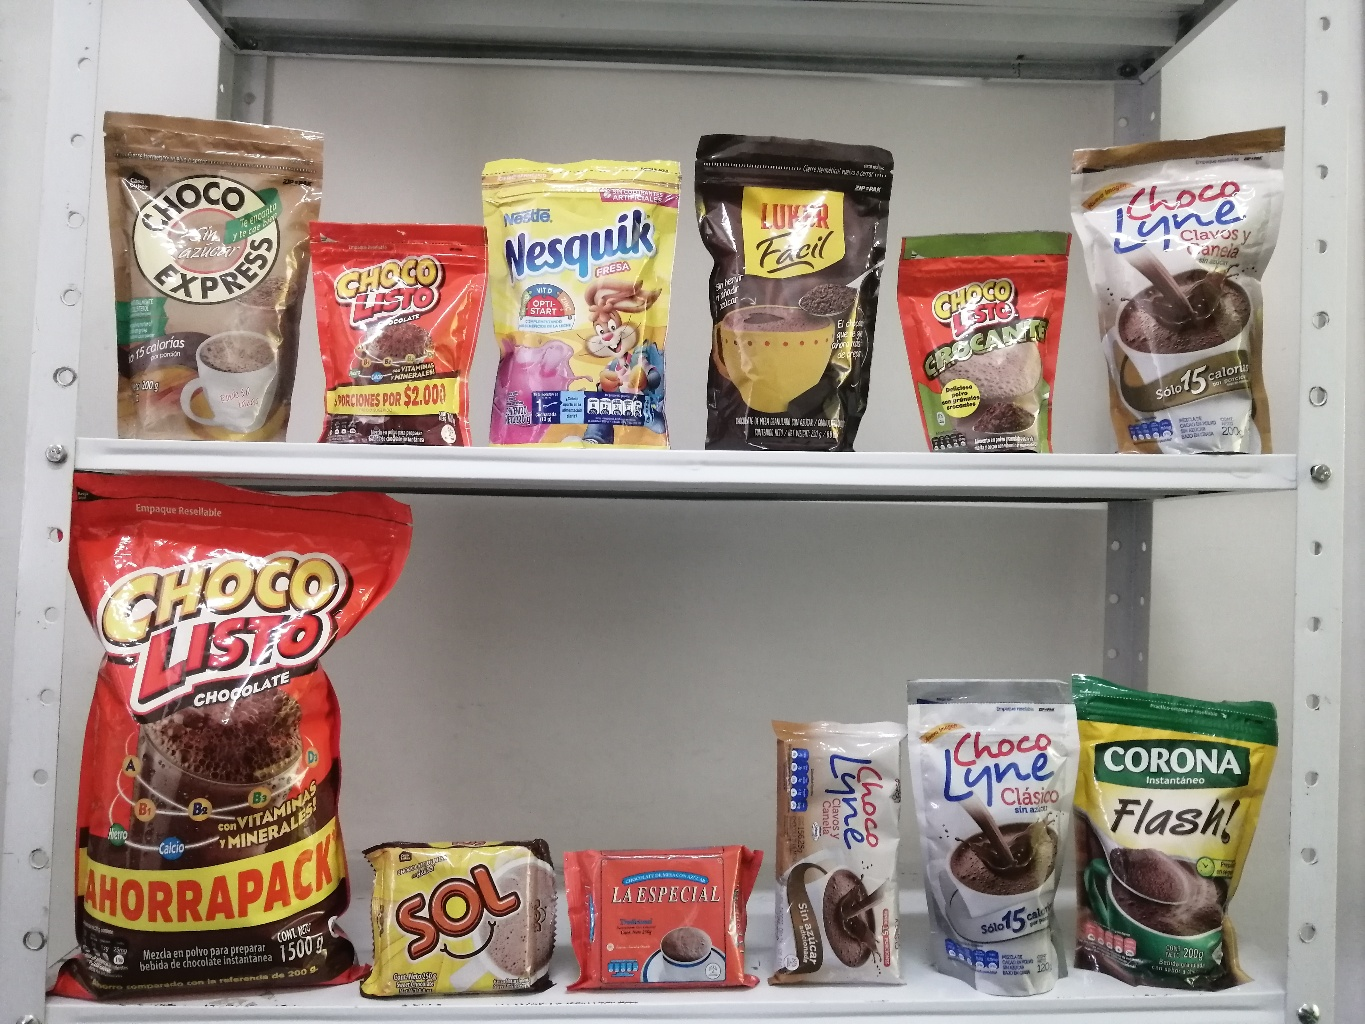COL0170102DYP10000: (886, 213, 1087, 455)
COL0170103DYP1,500: (12, 455, 445, 1011)
COL0170305DYP20000: (463, 143, 699, 464)
